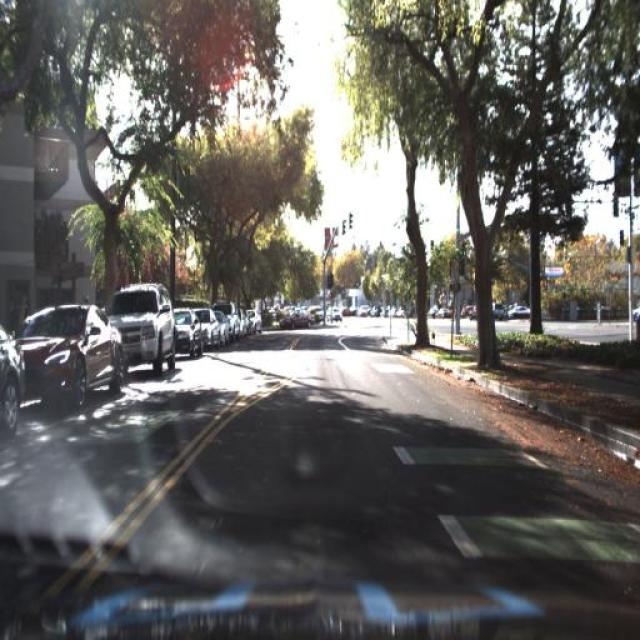car: (24, 295, 127, 414), (128, 275, 178, 379), (0, 314, 28, 444), (173, 300, 204, 362), (200, 306, 219, 353), (217, 306, 229, 346), (310, 304, 328, 324), (336, 302, 354, 322), (331, 306, 344, 326)
